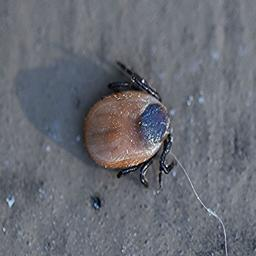Ixodes scapularis: (86, 61, 172, 186)
